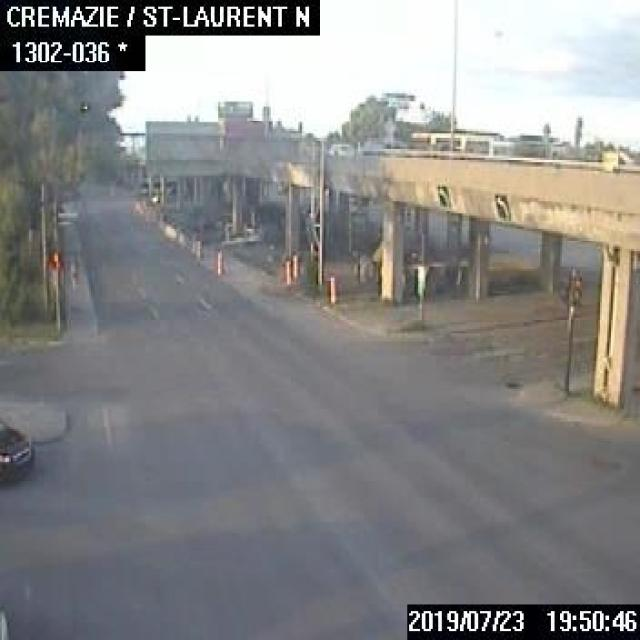construction: (290, 250, 299, 276), (327, 271, 335, 300), (282, 255, 290, 280), (214, 249, 222, 273)
vehicle: (0, 418, 35, 484), (325, 141, 356, 157)
